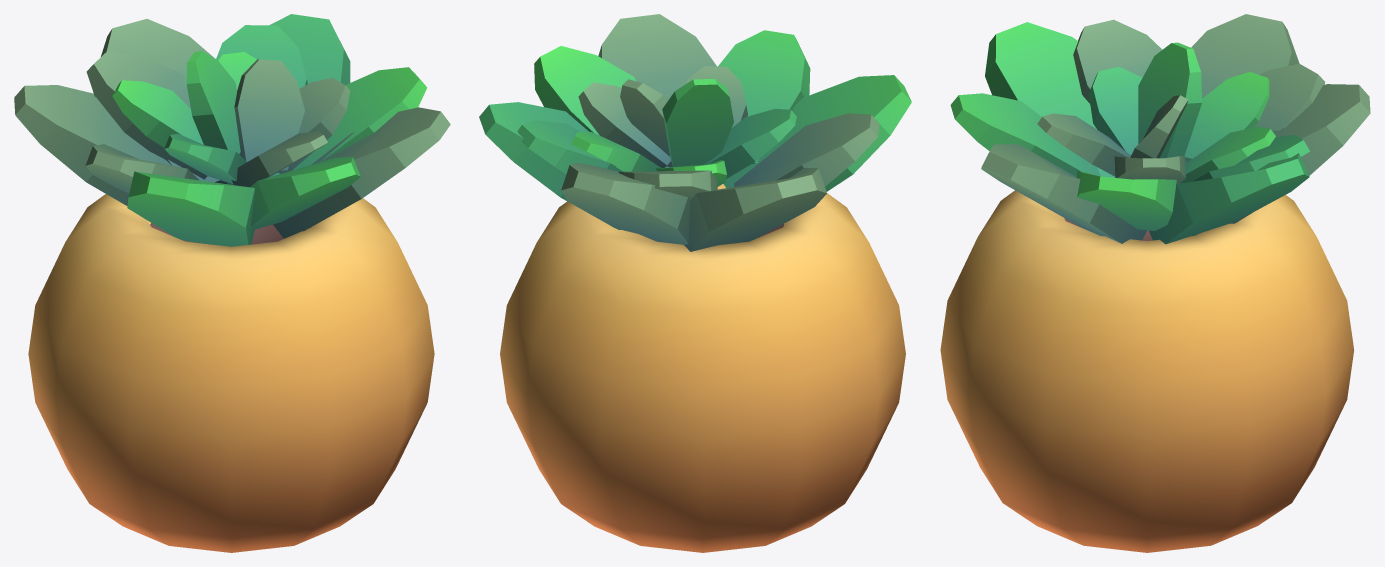
File: Plant_01.fbx
The picture shows the model from 3 angles, left to right: view 1: azimuth 30°, elevation 25°; view 2: azimuth 150°, elevation 25°; view 3: azimuth 270°, elevation 25°; orthographic projection.
Parts seen in each view (by area): view 1: Plant_01; view 2: Plant_01; view 3: Plant_01.
Part boxes in pixels (left/top/right/bottom): Plant_01: left=14, top=14, right=450, bottom=552; Plant_01: left=479, top=14, right=911, bottom=552; Plant_01: left=940, top=14, right=1370, bottom=552.
Bounding box in the file's own units: 0.6019 × 0.7124 × 0.6237.
